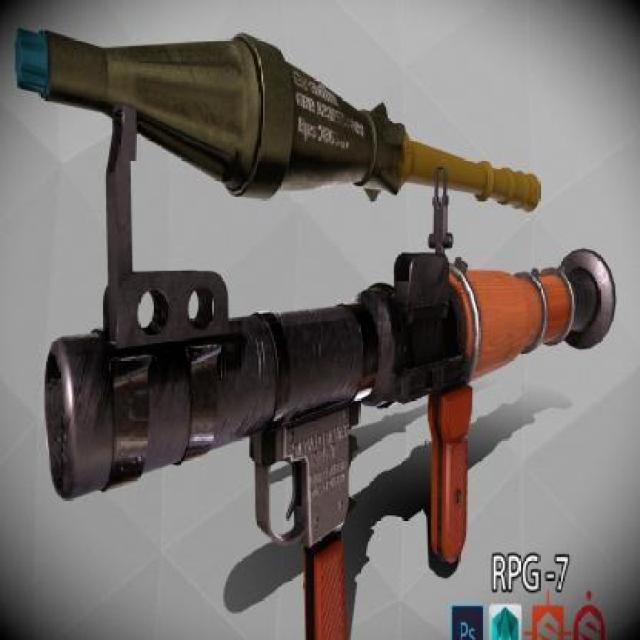weapon: (17, 3, 617, 640)
